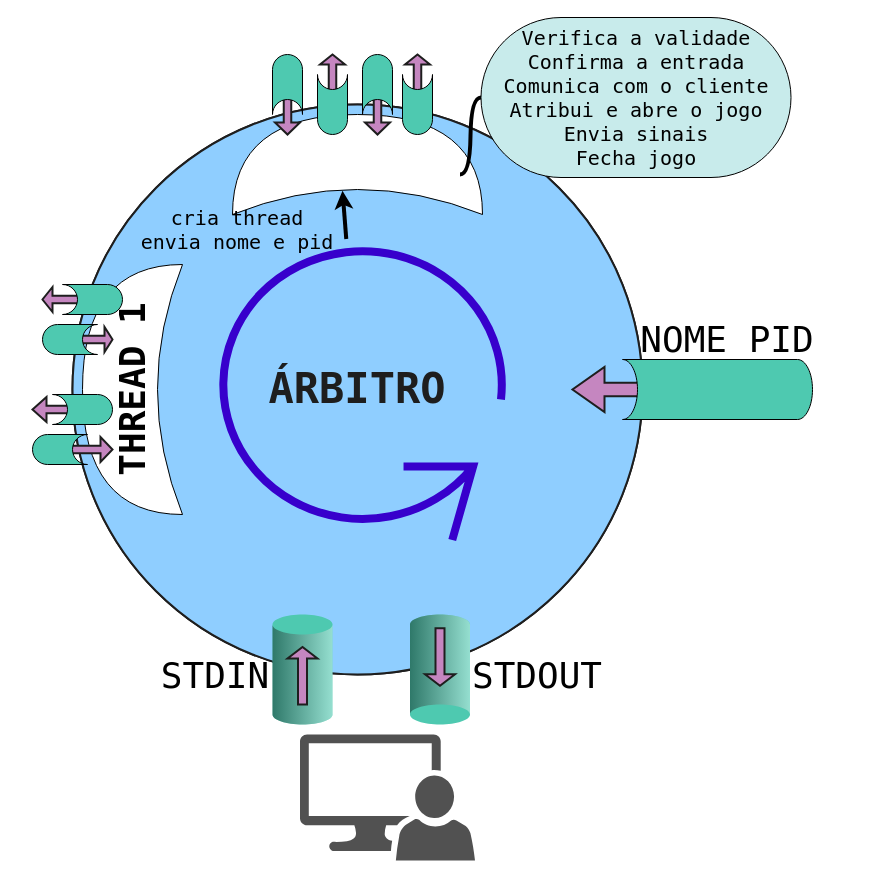
Some shapes in this 879 by 878 pixel diagram are drawn without their labels. The centre of each missing label's shape, as x and y in pixels:
ADMIN: [387,797]
THREAD 2: [357,164]
